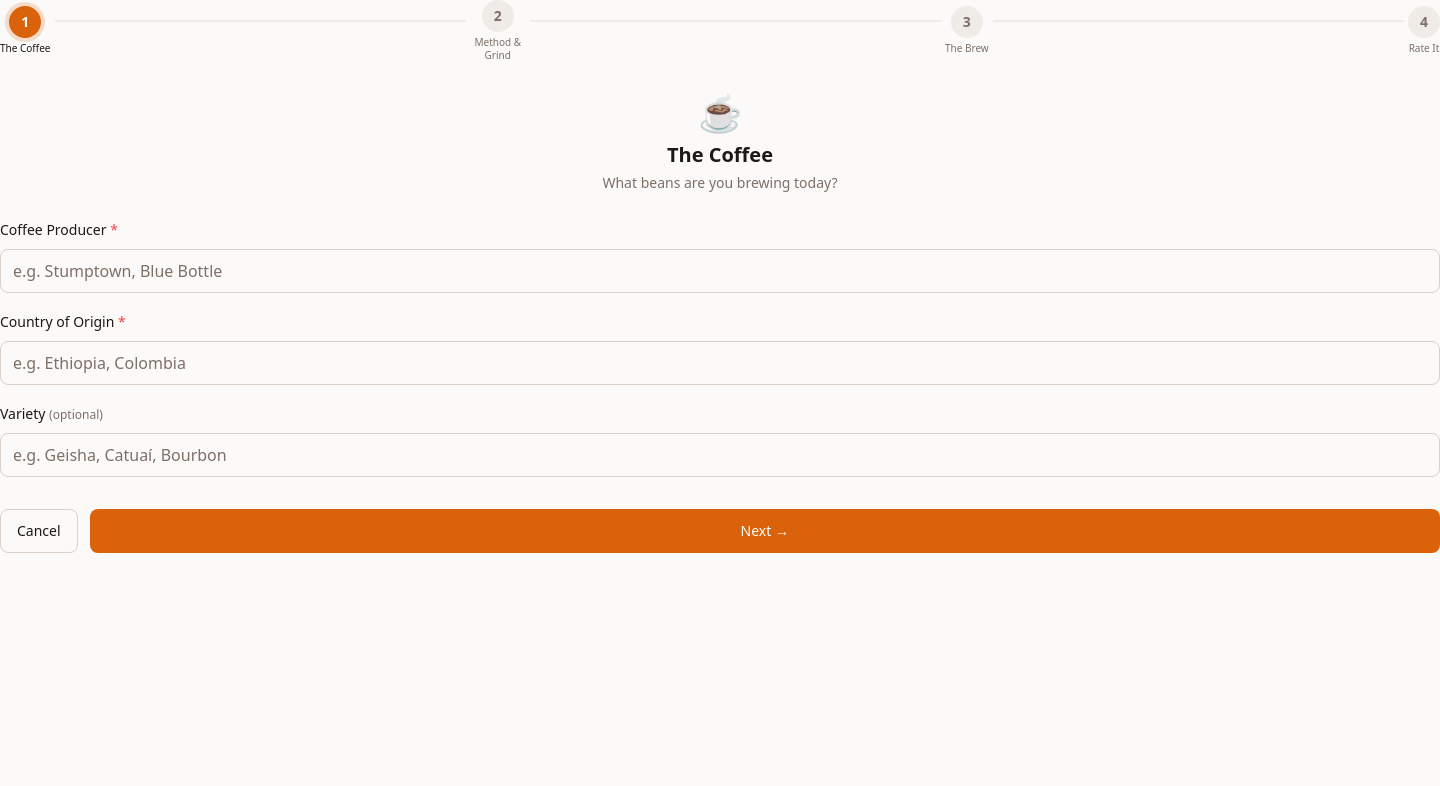
Test: BrewingForm wizard › advances to step 2 when step 1 is valid
Type "Blue Bottle" into the field labelled "Coffee Producer *" at x=720, y=271, box [0,249,1439,293]
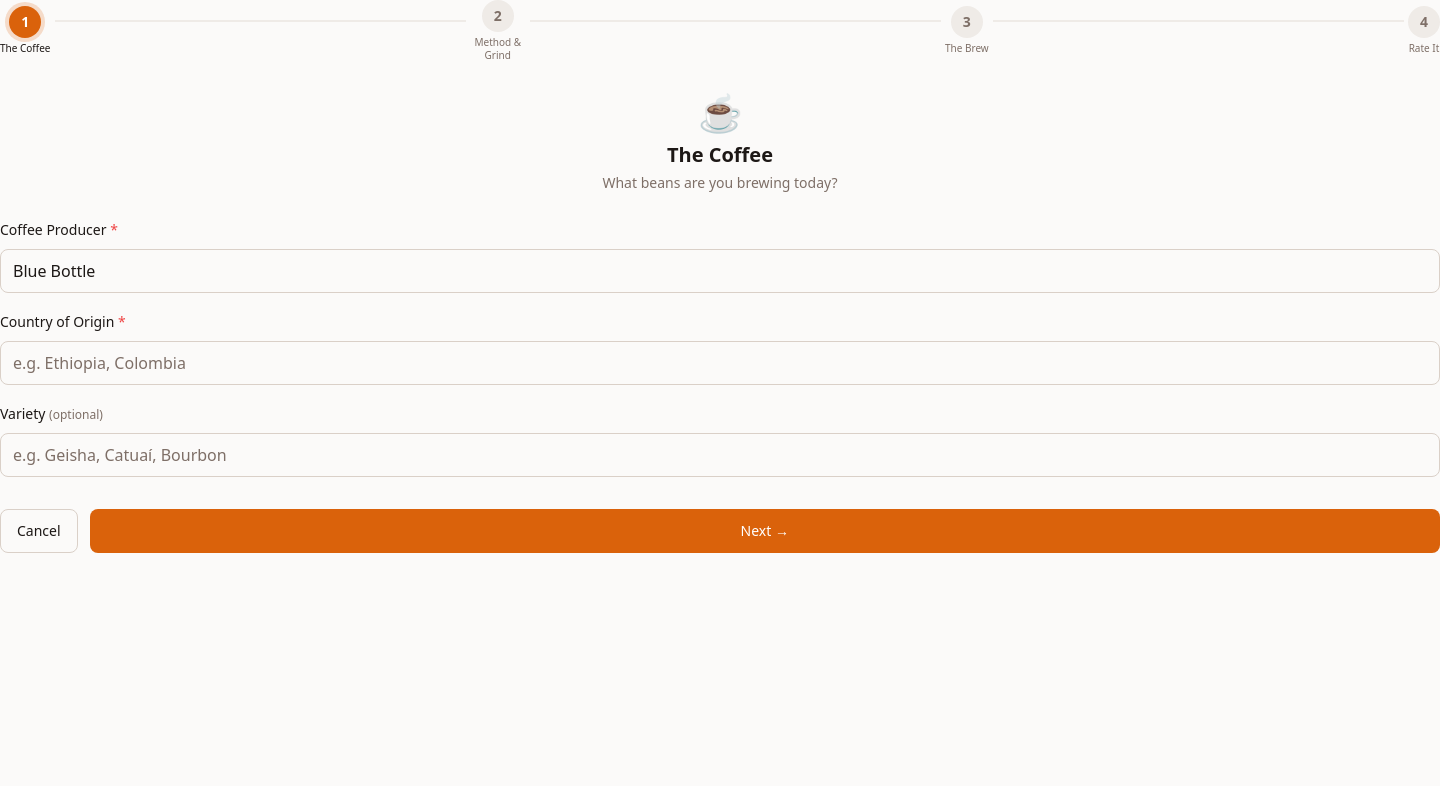
Type "Ethiopia" into the field labelled "Country of Origin *" at x=720, y=363, box [0,341,1439,385]
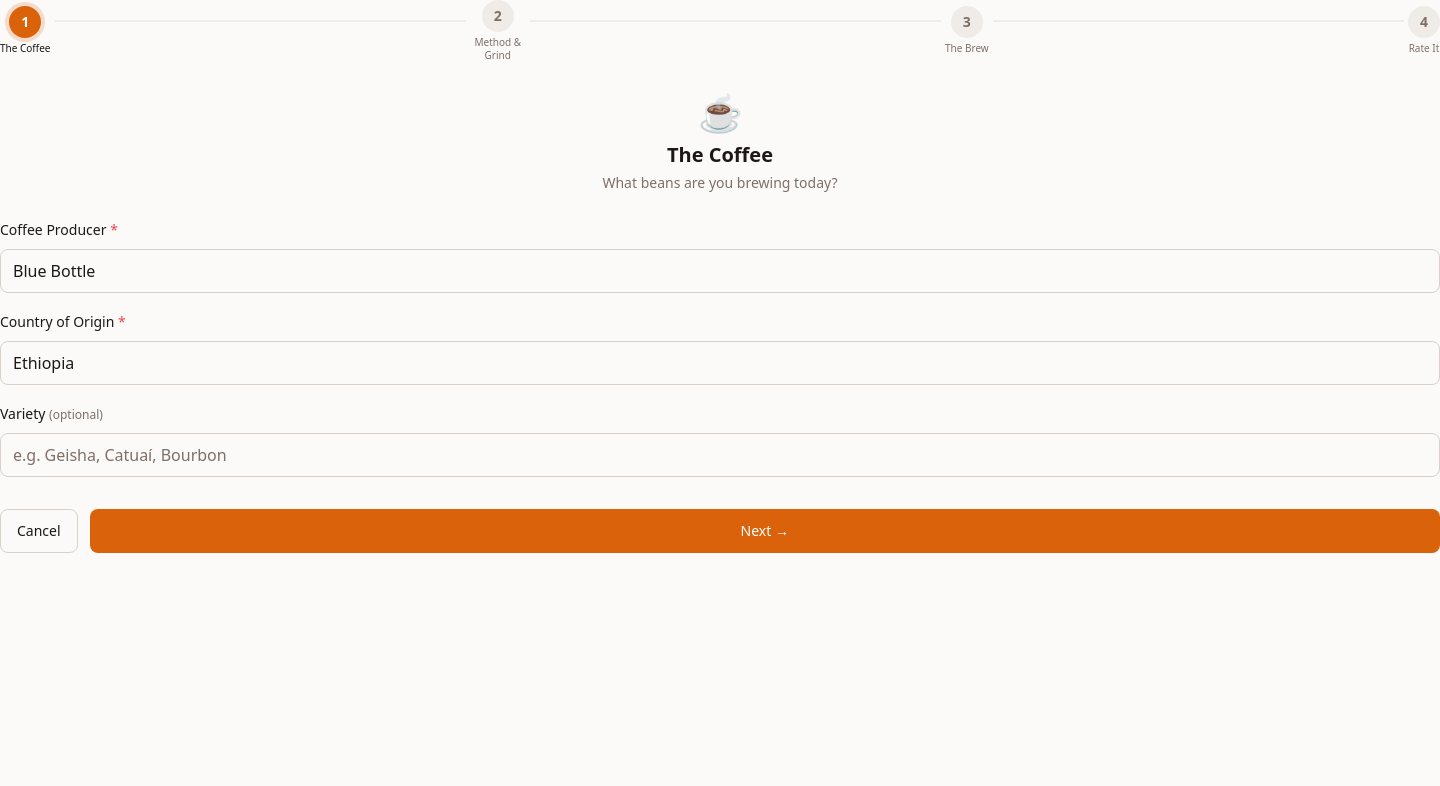
Click the button "Next →" at x=765, y=531, box [90,509,1439,553]
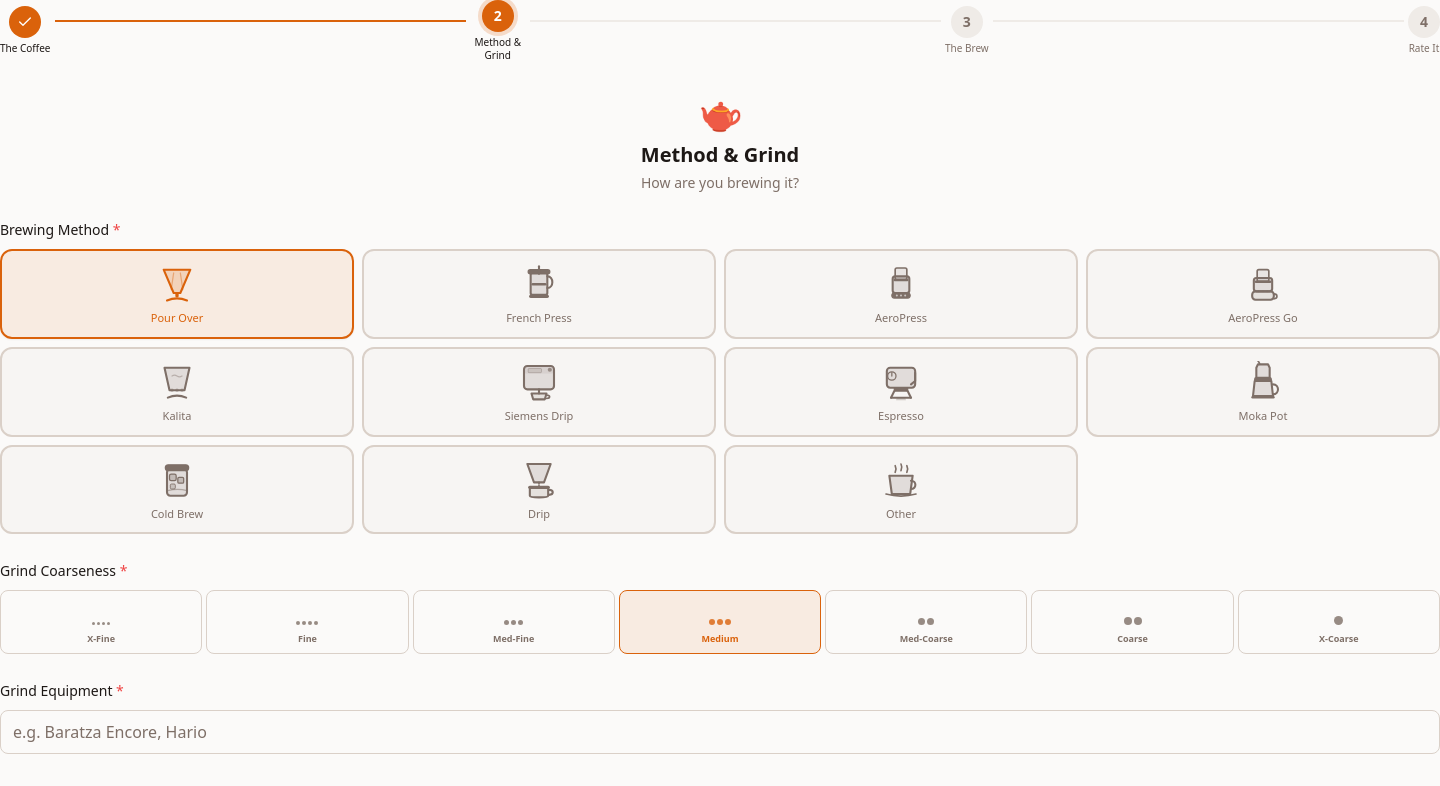
Check: the heading "Method & Grind" is shown, box [641,141,799,168]
